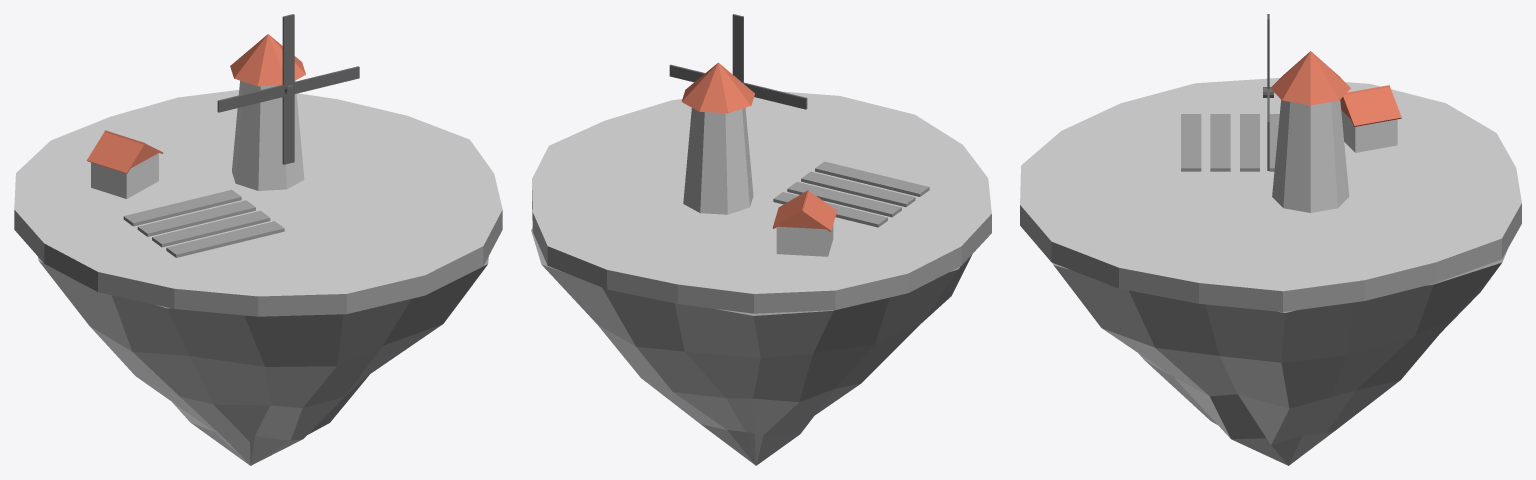
Rendered from island_windmill.glb.
3 views of the same model, side by side, from view 1: azimuth 30°, elevation 25°; view 2: azimuth 150°, elevation 25°; view 3: azimuth 270°, elevation 25° (orthographic). The views are drawn at different scales.
Visible parts, largest first — view 1: Island-col, SPIN_Sails; view 2: Island-col, SPIN_Sails; view 3: Island-col, SPIN_Sails.
Boxes of the visible parts, x1,y1,x2,y2 form: Island-col: (14, 34, 502, 465); SPIN_Sails: (217, 14, 359, 164); Island-col: (531, 62, 991, 465); SPIN_Sails: (669, 14, 807, 109); Island-col: (1020, 51, 1521, 465); SPIN_Sails: (1263, 14, 1273, 170).
Size of the model in its own units: 55.38 by 55.6 by 54.58.
